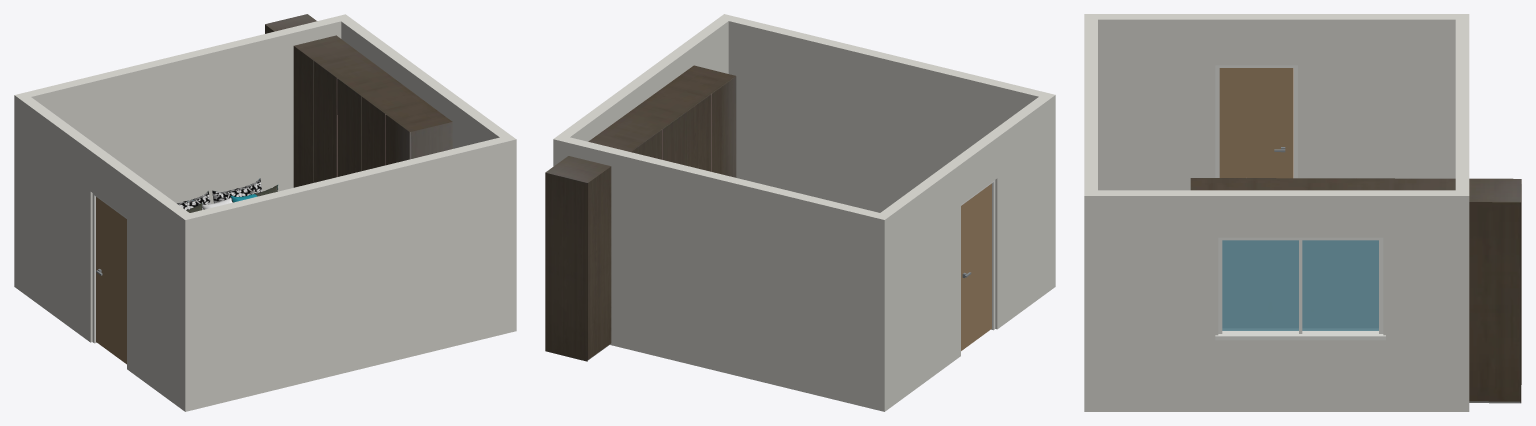
The model's file is atiss.glb.
3 views of the same model, side by side, from view 1: azimuth 30°, elevation 25°; view 2: azimuth 150°, elevation 25°; view 3: azimuth 270°, elevation 25° (orthographic). The views are drawn at different scales.
Parts seen in each view (by area): view 1: wall|scenesmith_047__R00|0, wall|scenesmith_047__R00|1, wall|scenesmith_047__R00|2, raw_model.004, wall|scenesmith_047__R00|3, wall|scenesmith_047__R00|2 Door 0 | wood leaf, raw_model.002, wall|scenesmith_047__R00|2 Door 0 | jamb; view 2: wall|scenesmith_047__R00|1, wall|scenesmith_047__R00|0, wall|scenesmith_047__R00|2, raw_model.004, wall|scenesmith_047__R00|3, wall|scenesmith_047__R00|2 Door 0 | wood leaf, wall|scenesmith_047__R00|2 Door 0 | jamb; view 3: wall|scenesmith_047__R00|3, wall|scenesmith_047__R00|2, raw_model.004, wall|scenesmith_047__R00|3 Window 0 | glazing, wall|scenesmith_047__R00|2 Door 0 | wood leaf, wall|scenesmith_047__R00|1, wall|scenesmith_047__R00|0, wall|scenesmith_047__R00|3 Window 0 | jamb, wall|scenesmith_047__R00|2 Door 0 | jamb.
Part boxes in pixels (box(x1,y1,x2,y2)): wall|scenesmith_047__R00|0: box(179, 136, 516, 411); wall|scenesmith_047__R00|1: box(14, 14, 351, 203); wall|scenesmith_047__R00|2: box(14, 95, 195, 411); raw_model.004: box(265, 14, 452, 187); wall|scenesmith_047__R00|3: box(339, 15, 512, 148); wall|scenesmith_047__R00|2 Door 0 | wood leaf: box(96, 197, 126, 364); raw_model.002: box(177, 178, 278, 212); wall|scenesmith_047__R00|2 Door 0 | jamb: box(92, 193, 126, 343); wall|scenesmith_047__R00|1: box(553, 134, 890, 411); wall|scenesmith_047__R00|0: box(718, 14, 1055, 212); wall|scenesmith_047__R00|2: box(874, 95, 1055, 411); raw_model.004: box(545, 65, 736, 361); wall|scenesmith_047__R00|3: box(554, 16, 733, 141); wall|scenesmith_047__R00|2 Door 0 | wood leaf: box(961, 183, 991, 350); wall|scenesmith_047__R00|2 Door 0 | jamb: box(961, 180, 995, 330); wall|scenesmith_047__R00|3: box(1098, 190, 1455, 411); wall|scenesmith_047__R00|2: box(1098, 14, 1455, 190); raw_model.004: box(1190, 177, 1521, 403); wall|scenesmith_047__R00|3 Window 0 | glazing: box(1222, 240, 1378, 330); wall|scenesmith_047__R00|2 Door 0 | wood leaf: box(1219, 68, 1293, 178); wall|scenesmith_047__R00|1: box(1455, 14, 1469, 411); wall|scenesmith_047__R00|0: box(1084, 14, 1097, 411); wall|scenesmith_047__R00|3 Window 0 | jamb: box(1215, 237, 1385, 340); wall|scenesmith_047__R00|2 Door 0 | jamb: box(1215, 65, 1297, 178).
Bounding box in the file's own units: 4.73 × 2.62 × 4.77.
11 materials, 5 textured.
